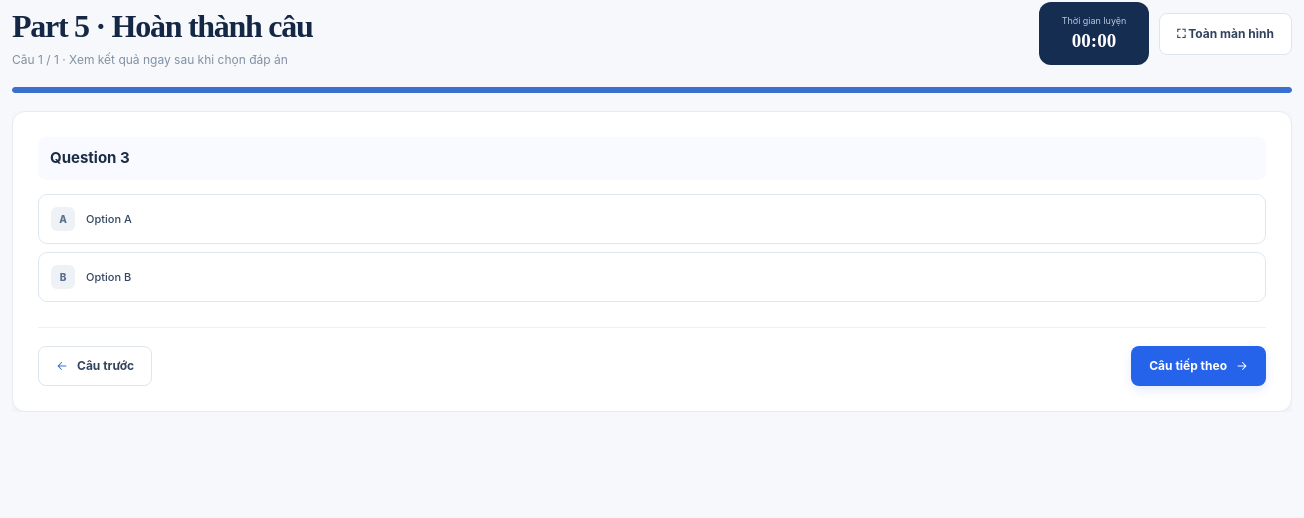
Scenario: PartPracticeRunPage media behavior › preserves line breaks in answer explanations
Click the button with aria-label "Chọn đáp án B": (109, 276) [38,252,1266,302]
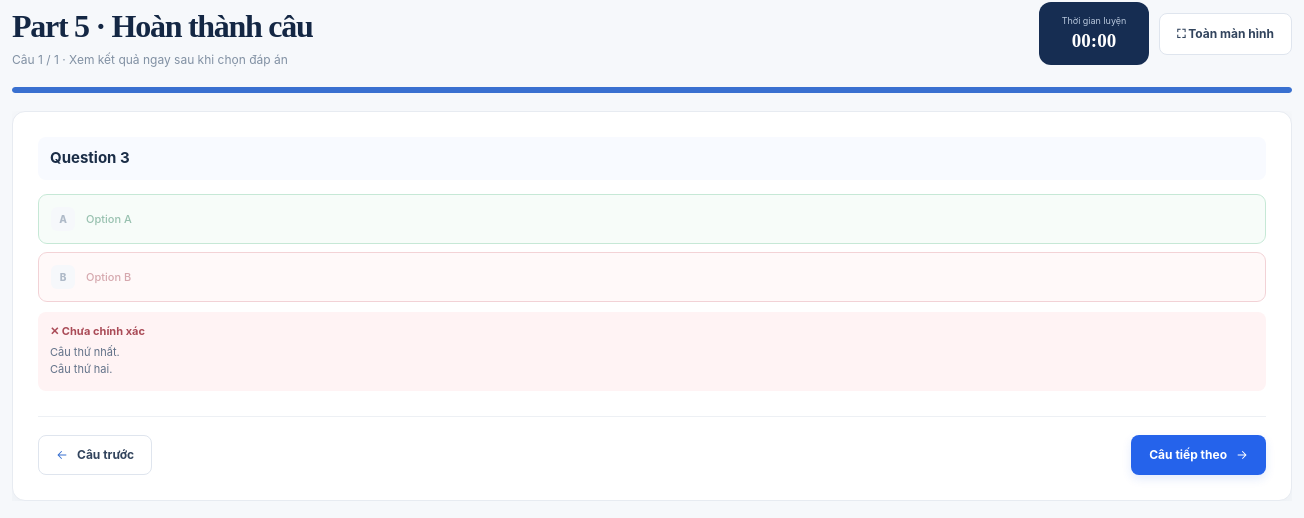
Now the text "Câu thứ nhất. Câu thứ hai." is shown, box [50,344,120,376]
